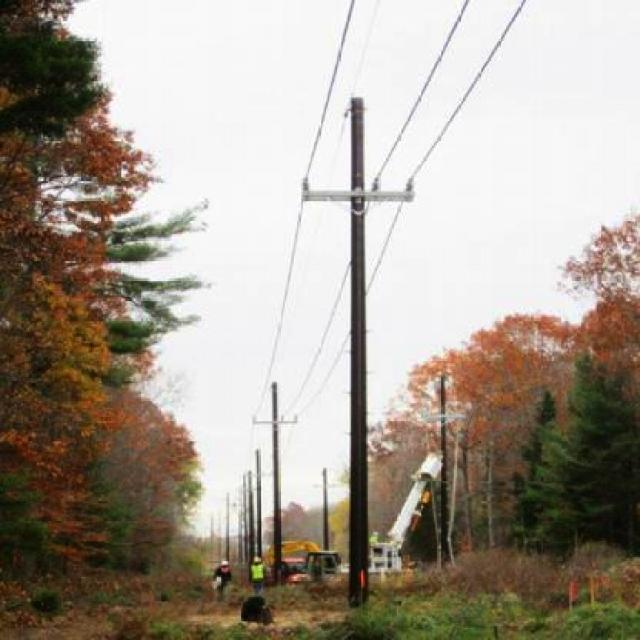crossarm: (306, 189, 417, 214)
pole: (348, 97, 369, 611)
